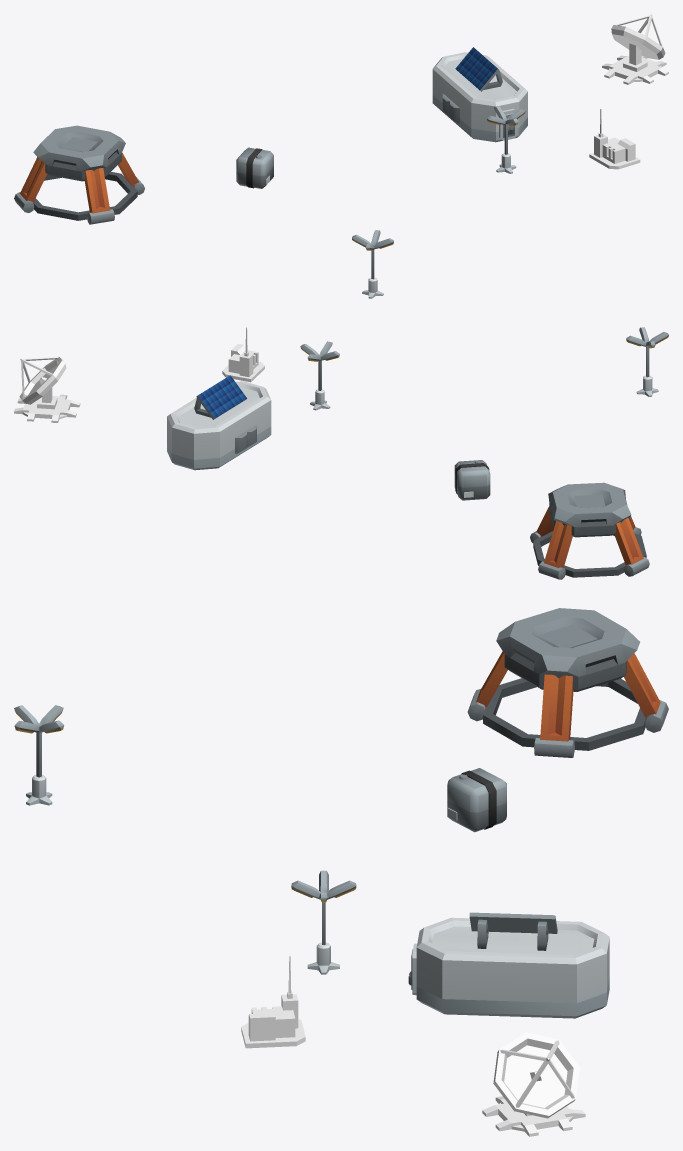
The model's file is Research_3.glb.
The picture shows the model from 3 angles, top to bottom: view 1: azimuth 30°, elevation 25°; view 2: azimuth 150°, elevation 25°; view 3: azimuth 270°, elevation 25°; orthographic projection. The views are drawn at different scales.
Parts seen in each view (by area): view 1: structure_low, cargodepot_C, satelliteDish_detailed, cargo_B_packed.001, machine_wirelessCable, lights.001, lights; view 2: structure_low, cargodepot_C, satelliteDish_detailed, cargo_B_packed.001, machine_wirelessCable, lights.001, lights; view 3: cargodepot_C, structure_low, satelliteDish_detailed, cargo_B_packed.001, machine_wirelessCable, lights, lights.001.
Boxes of the visible parts, x1,y1,x2,y2 form: structure_low: (14,125,144,224); cargodepot_C: (432,47,527,142); satelliteDish_detailed: (602,14,668,84); cargo_B_packed.001: (236,147,273,188); machine_wirelessCable: (589,109,640,169); lights.001: (487,106,525,173); lights: (352,230,393,298); structure_low: (530,482,649,579); cargodepot_C: (167,375,271,470); satelliteDish_detailed: (14,357,80,422); cargo_B_packed.001: (454,460,490,500); machine_wirelessCable: (222,327,264,382); lights.001: (300,341,339,410); lights: (626,327,668,396); cargodepot_C: (408,912,609,1018); structure_low: (467,608,668,757); satelliteDish_detailed: (482,1032,585,1136); cargo_B_packed.001: (447,768,506,832); machine_wirelessCable: (241,955,305,1048); lights: (14,705,64,805); lights.001: (291,870,356,974).
Size of the model in its own units: 11.56 by 1.07 by 6.87.
Materials: 5 (4 with a texture image).
